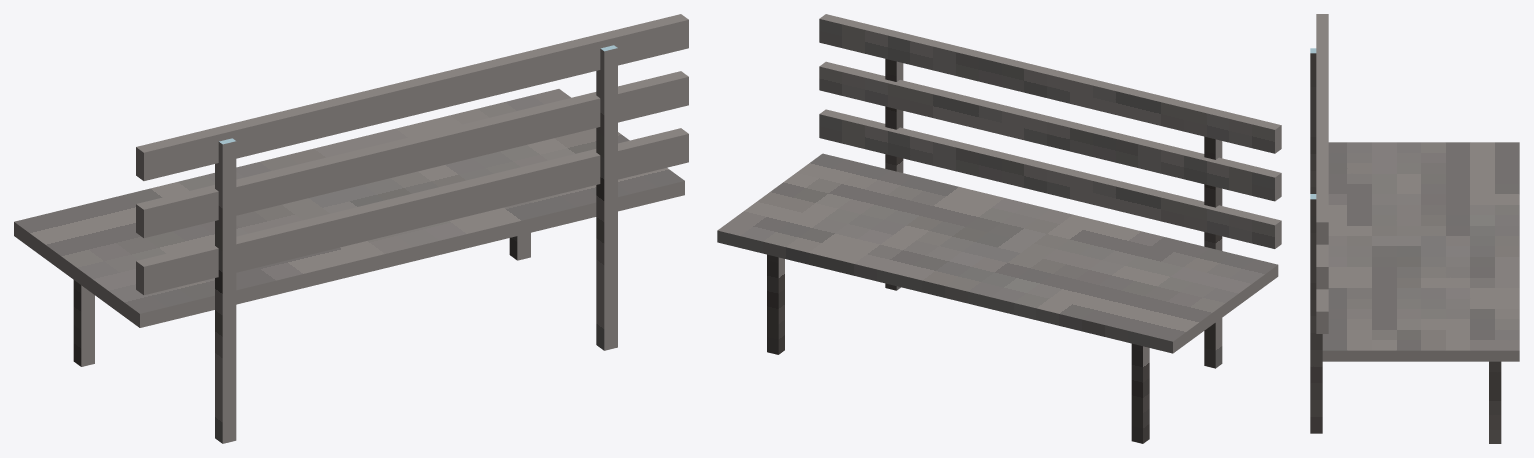
File: bench.fbx
3 renders of one model, left to right at view 1: azimuth 30°, elevation 25°; view 2: azimuth 150°, elevation 25°; view 3: azimuth 270°, elevation 25°, orthographic. The views are drawn at different scales.
Parts seen in each view (by area): view 1: cube, cube_5, cube_1, cube_4, cube_6, cube_2, cube_7; view 2: cube, cube_5, cube_1, cube_4, cube_6, cube_7, cube_3, cube_2; view 3: cube, cube_5, cube_2, cube_3, cube_6, cube_4, cube_1.
Part boxes in pixels (<box>): cube: <box>14,89,684,327</box>; cube_5: <box>136,14,688,180</box>; cube_1: <box>136,128,688,295</box>; cube_4: <box>136,71,688,238</box>; cube_6: <box>215,138,236,443</box>; cube_2: <box>596,45,617,350</box>; cube_7: <box>73,280,94,366</box>; cube: <box>717,153,1278,353</box>; cube_5: <box>819,14,1281,153</box>; cube_1: <box>819,109,1281,248</box>; cube_4: <box>819,61,1281,201</box>; cube_6: <box>1204,136,1222,368</box>; cube_7: <box>1131,343,1149,443</box>; cube_3: <box>767,254,784,354</box>; cube_2: <box>885,59,903,290</box>; cube: <box>1322,142,1519,361</box>; cube_5: <box>1316,14,1328,244</box>; cube_2: <box>1310,194,1322,433</box>; cube_3: <box>1489,361,1501,443</box>; cube_6: <box>1310,48,1316,193</box>; cube_4: <box>1316,244,1328,289</box>; cube_1: <box>1316,289,1328,333</box>.
Bounding box in the file's own units: 125 × 67.19 × 53.12.
1 material, 1 textured.
